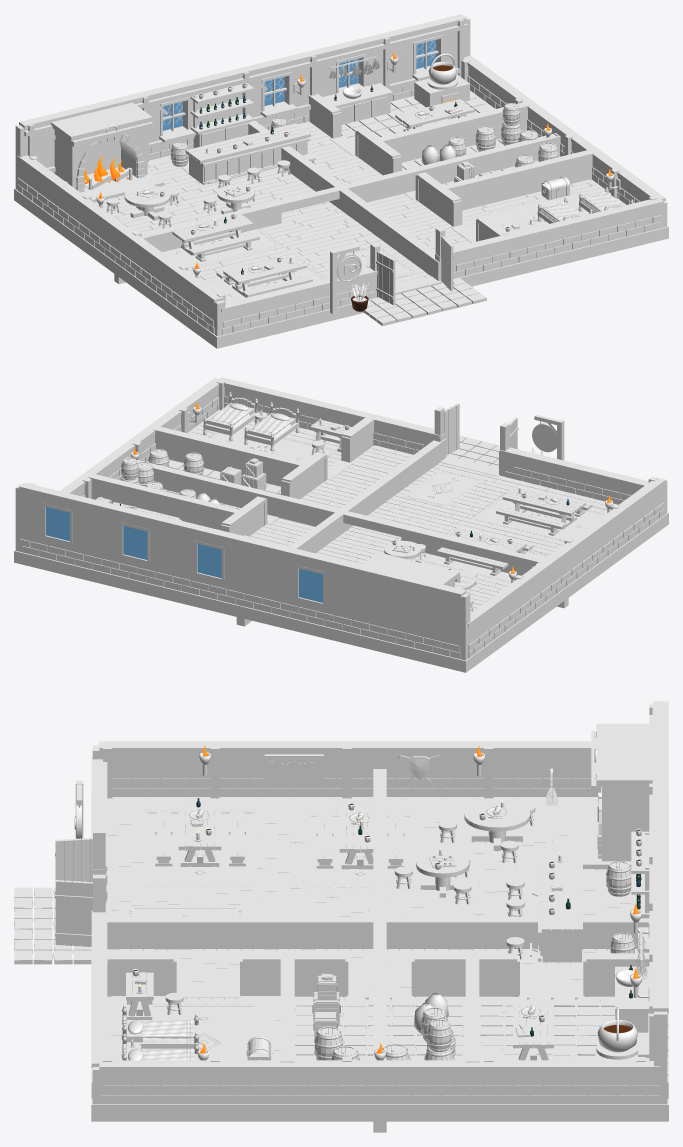
The model's file is Taverne.glb.
3 views of the same model, one above another, from view 1: azimuth 30°, elevation 25°; view 2: azimuth 150°, elevation 25°; view 3: azimuth 270°, elevation 25° (orthographic). The views are drawn at different scales.
Parts seen in each view (by area): view 1: Fundament, Sued_oben, Nordwand, Suedwand, Mauerabschluss_N, Westwand, Ost_oben, Kamin_Steinmassiv, Lager_Gast_Trennwand, Mauerabschluss_W, Mauerabschluss_E, Nord_Fachwerkbalken.001 (+24 smaller); view 2: Nordwand, Fundament, Sued_oben, Mauerabschluss_N, Westwand, Ost_oben, Suedwand, Mauerabschluss_W, Lager_Gast_Trennwand, Kueche_Lager_Trennwand, Mauerabschluss_S.001, Wool rug field.001 (+22 smaller); view 3: Westwand, Fundament, Ostwand, Ost_oben, West_oben, Ostfluegel_Trennwand, Boden_Unterbau, Mauerabschluss_E, Mauerabschluss_W, Mauerabschluss_N, Wool rug field.001, Sued_oben (+31 smaller).
Part boxes in pixels (bbox=[...]): Fundament: bbox=[14, 188, 668, 348]; Sued_oben: bbox=[114, 133, 560, 283]; Nordwand: bbox=[15, 16, 470, 184]; Suedwand: bbox=[212, 202, 667, 336]; Mauerabschluss_N: bbox=[19, 14, 466, 129]; Westwand: bbox=[15, 156, 225, 335]; Ost_oben: bbox=[248, 120, 439, 280]; Kamin_Steinmassiv: bbox=[54, 129, 147, 188]; Lager_Gast_Trennwand: bbox=[452, 157, 592, 210]; Mauerabschluss_W: bbox=[17, 155, 223, 303]; Mauerabschluss_E: bbox=[463, 55, 665, 200]; Nord_Fachwerkbalken.001: bbox=[24, 23, 467, 136]; Nordwand: bbox=[15, 484, 470, 660]; Fundament: bbox=[14, 512, 668, 672]; Sued_oben: bbox=[137, 459, 568, 608]; Mauerabschluss_N: bbox=[19, 482, 466, 597]; Westwand: bbox=[457, 480, 667, 659]; Ost_oben: bbox=[236, 438, 446, 626]; Suedwand: bbox=[224, 386, 640, 500]; Mauerabschluss_W: bbox=[468, 477, 665, 627]; Lager_Gast_Trennwand: bbox=[155, 433, 295, 486]; Kueche_Lager_Trennwand: bbox=[91, 481, 231, 530]; Mauerabschluss_S.001: bbox=[219, 377, 439, 438]; Wool rug field.001: bbox=[470, 490, 605, 542]; Westwand: bbox=[92, 745, 591, 796]; Fundament: bbox=[91, 791, 668, 1121]; Ostwand: bbox=[92, 1067, 667, 1104]; Ost_oben: bbox=[107, 916, 649, 950]; West_oben: bbox=[107, 928, 637, 950]; Ostfluegel_Trennwand: bbox=[107, 958, 649, 996]; Boden_Unterbau: bbox=[106, 797, 649, 1060]; Mauerabschluss_E: bbox=[99, 1060, 660, 1071]; Mauerabschluss_W: bbox=[99, 741, 591, 752]; Mauerabschluss_N: bbox=[652, 701, 668, 1012]; Wool rug field.001: bbox=[143, 811, 256, 886]; Sued_oben: bbox=[373, 769, 386, 1132].
Size of what is drawn, in the model's own units: 22.5 by 4.07 by 19.84.
